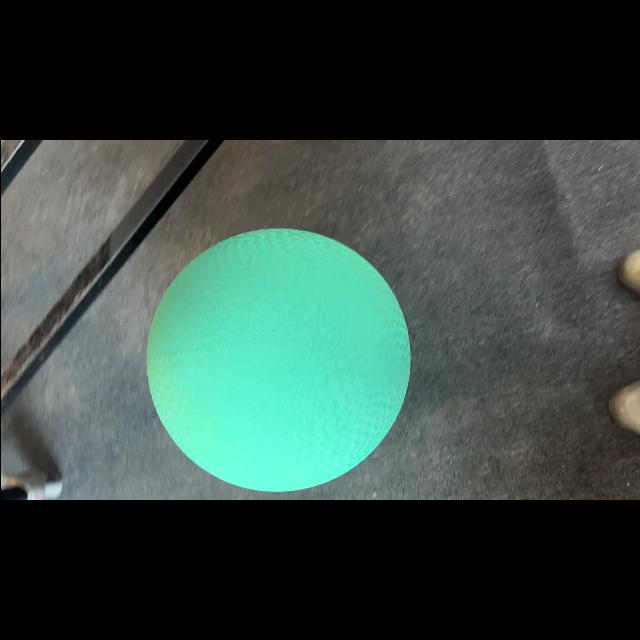ALGAE: (144, 228, 412, 492)
